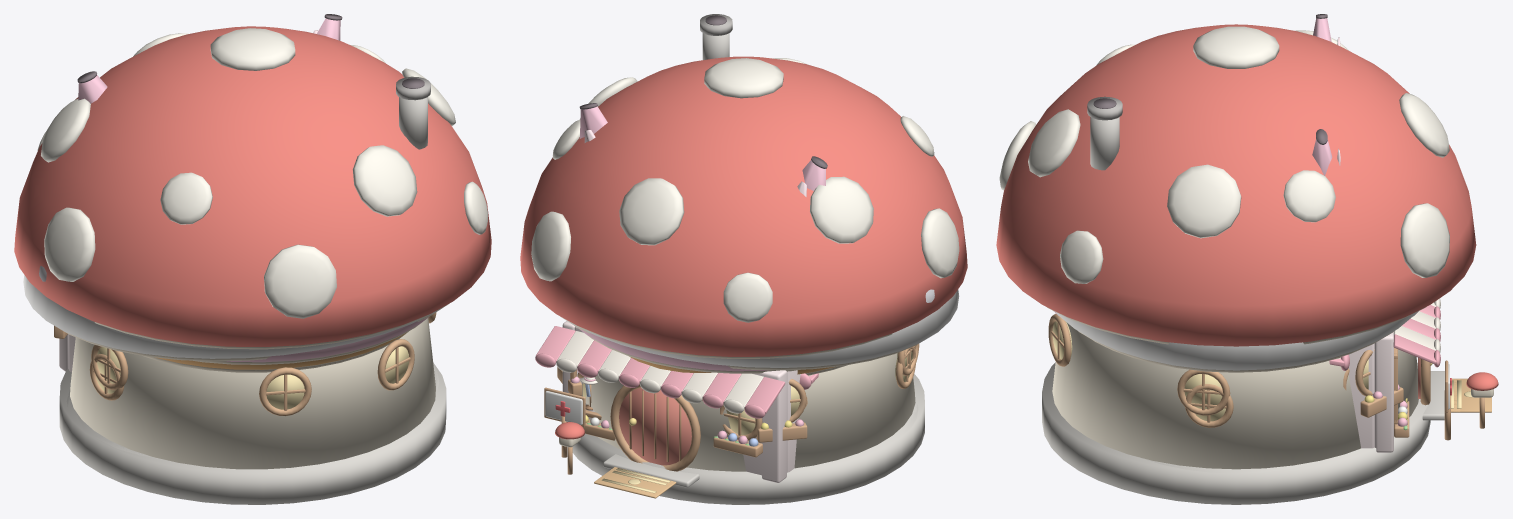
The model's file is town.glb.
The picture shows the model from 3 angles, left to right: view 1: azimuth 30°, elevation 25°; view 2: azimuth 150°, elevation 25°; view 3: azimuth 270°, elevation 25°; orthographic projection. The views are drawn at different scales.
Parts seen in each view (by area): view 1: PlayerHouse, Clinic, MillieHouse, House0; view 2: PlayerHouse, ClothingShop, Clinic, MillieHouse; view 3: PlayerHouse, Clinic, ClothingShop, MillieHouse.
Part boxes in pixels (x1,y1,x2,y2): PlayerHouse: [14, 26, 491, 504]; Clinic: [23, 266, 449, 459]; MillieHouse: [77, 14, 428, 364]; House0: [142, 331, 408, 372]; PlayerHouse: [520, 14, 967, 504]; ClothingShop: [535, 321, 800, 482]; Clinic: [544, 289, 959, 486]; MillieHouse: [579, 103, 827, 373]; PlayerHouse: [996, 24, 1498, 504]; Clinic: [1056, 312, 1460, 473]; ClothingShop: [1348, 298, 1440, 452]; MillieHouse: [1054, 14, 1418, 316].
Bounding box in the file's own units: 12.58 × 11.09 × 13.06.
